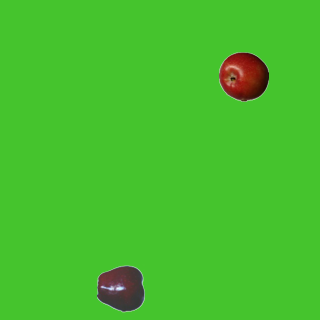Apple Braeburn: (218, 51, 268, 101)
Apple Red Delicious: (96, 263, 146, 313)
